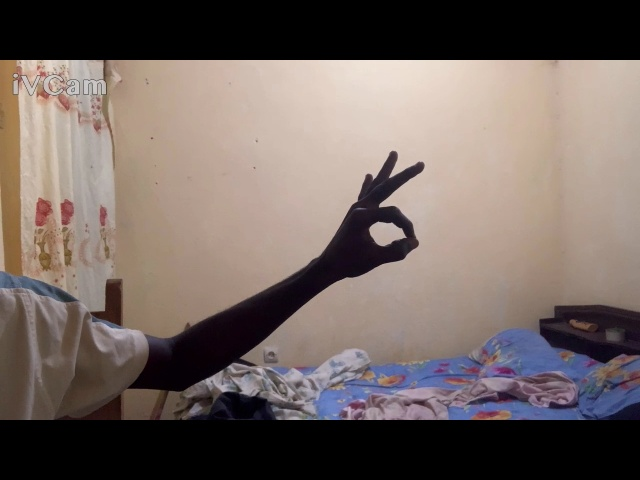oui: (328, 148, 431, 284)
